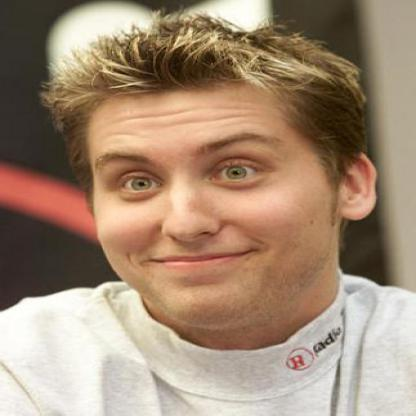face: (81, 34, 342, 331)
